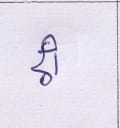i_matra: (44, 33, 64, 76)
